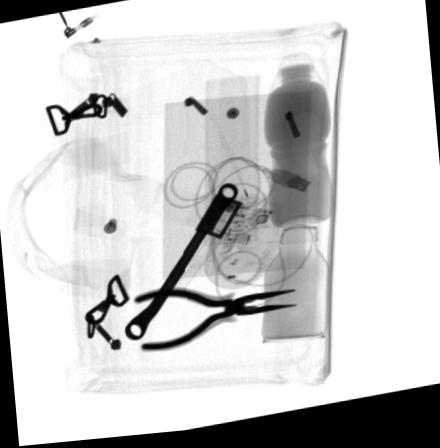Pliers: (131, 290, 299, 354)
Wrench: (125, 186, 241, 341)
